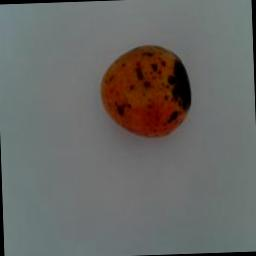Mango Rotten: (92, 36, 202, 146)
